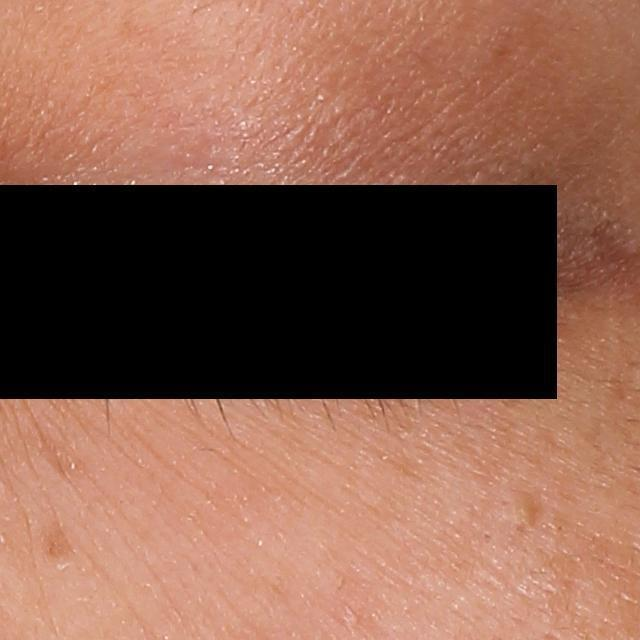comedo: (501, 495, 536, 527)
melasma: (34, 520, 82, 564)
